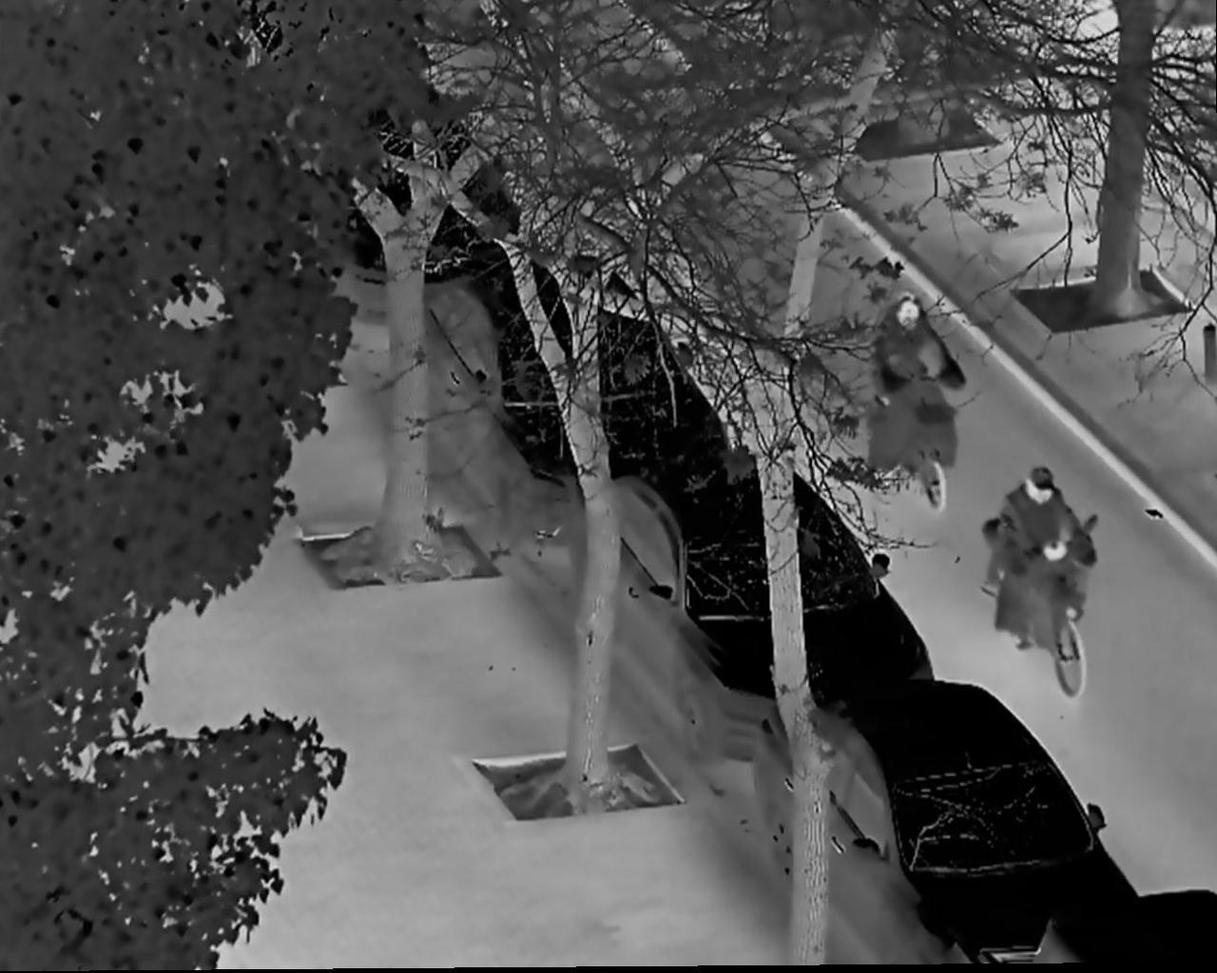person: (1003, 466, 1082, 612), (877, 296, 958, 434)
